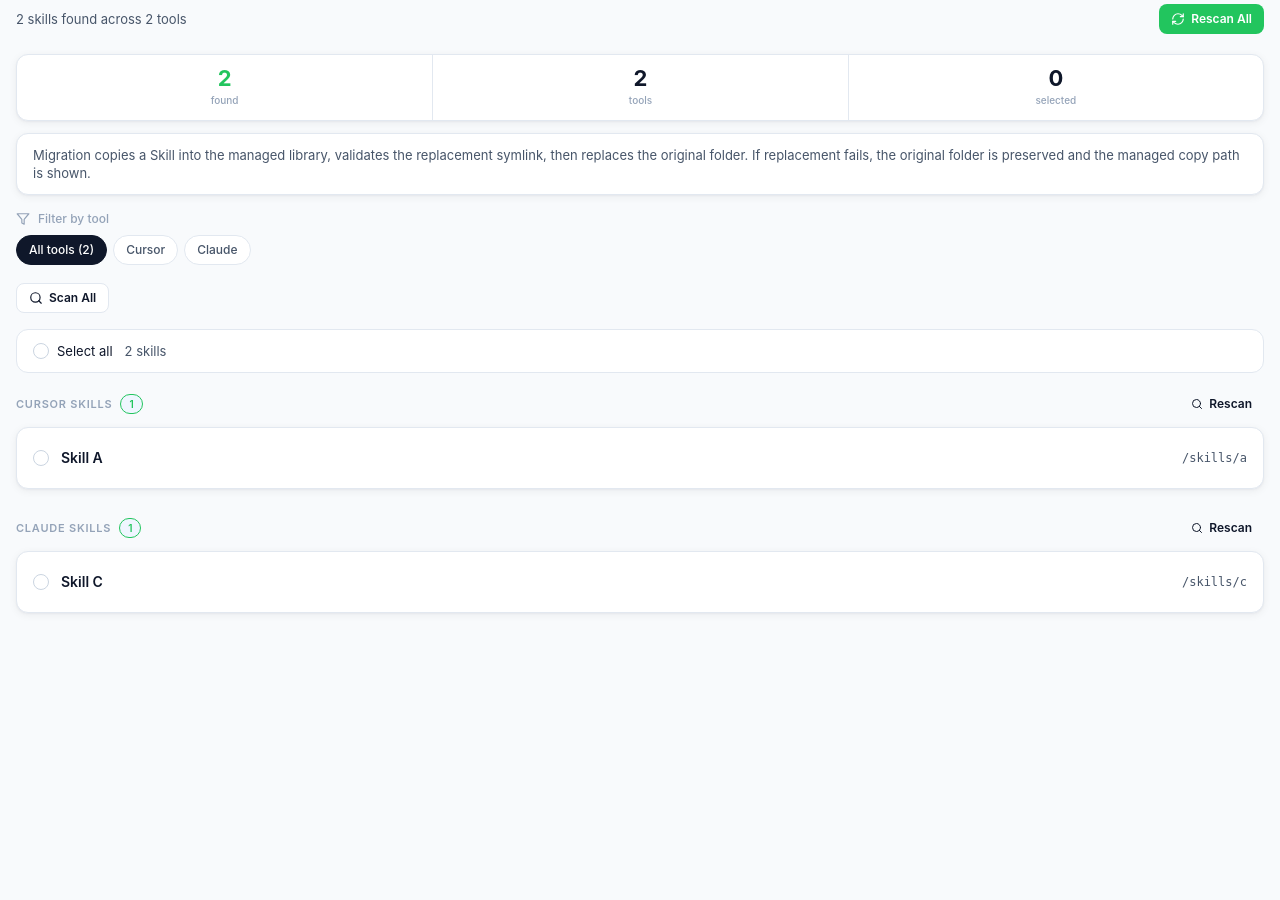
it: MigratePage › clears hidden selections when switching tool filters
Expected: the text "Skill A" is shown, [61,449,103,466]
Click the checkbox named "Select Skill A" at (41, 458), box [33,450,49,466]
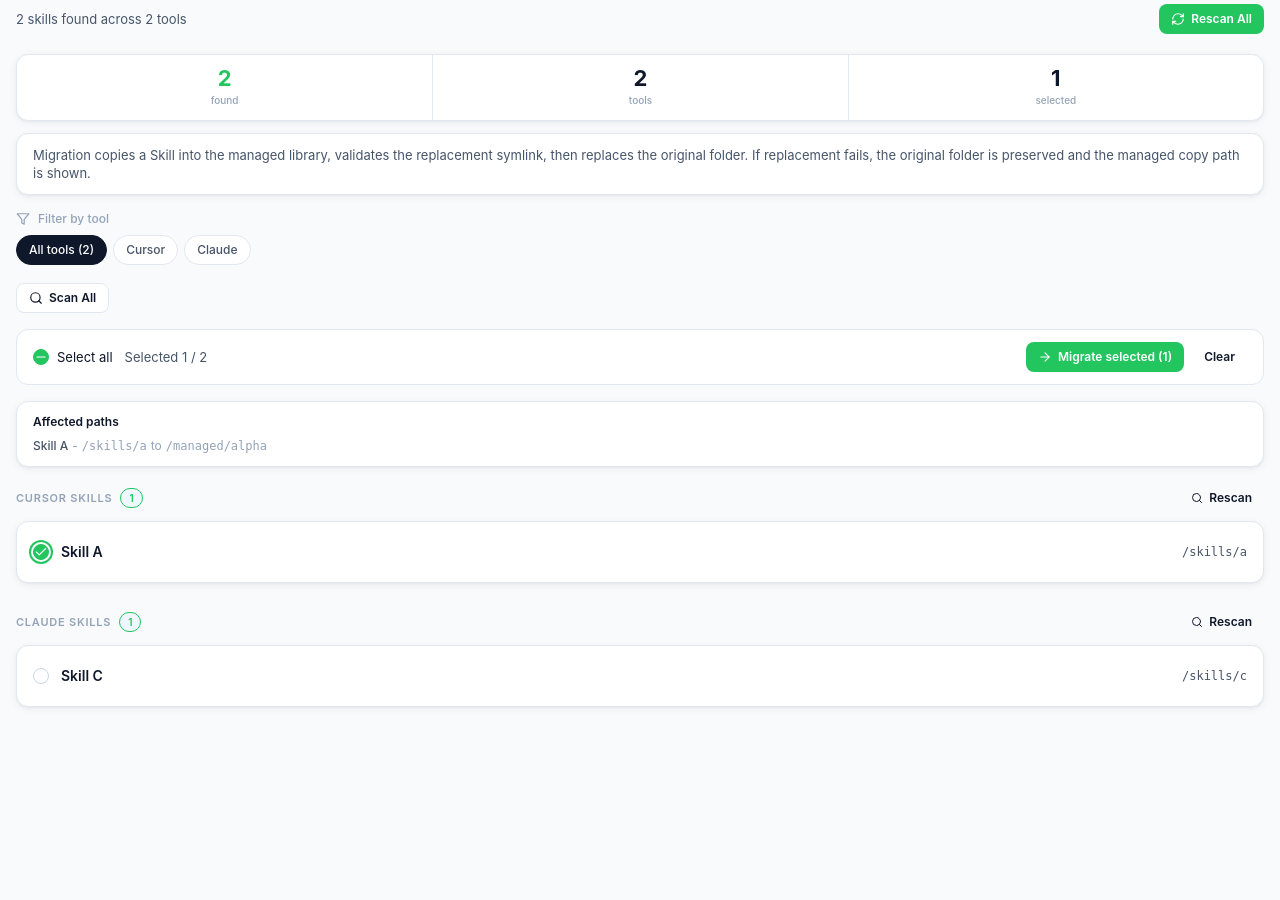
Now the text "Selected 1 / 2" is shown, box [125,348,207,366]
Click the tab "Claude" at (217, 250), box [184,235,250,265]
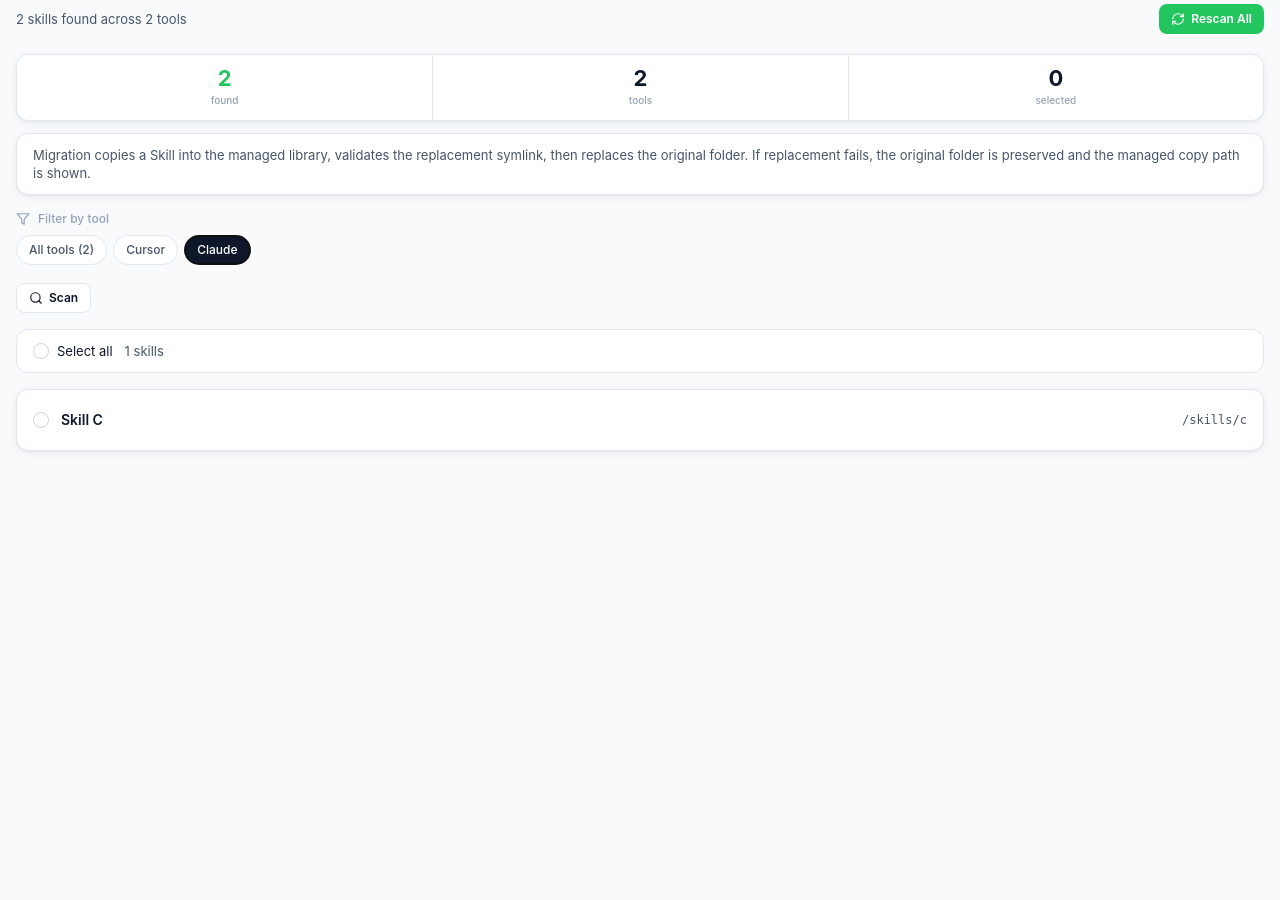
Now the button "Migrate selected (1)" is gone
